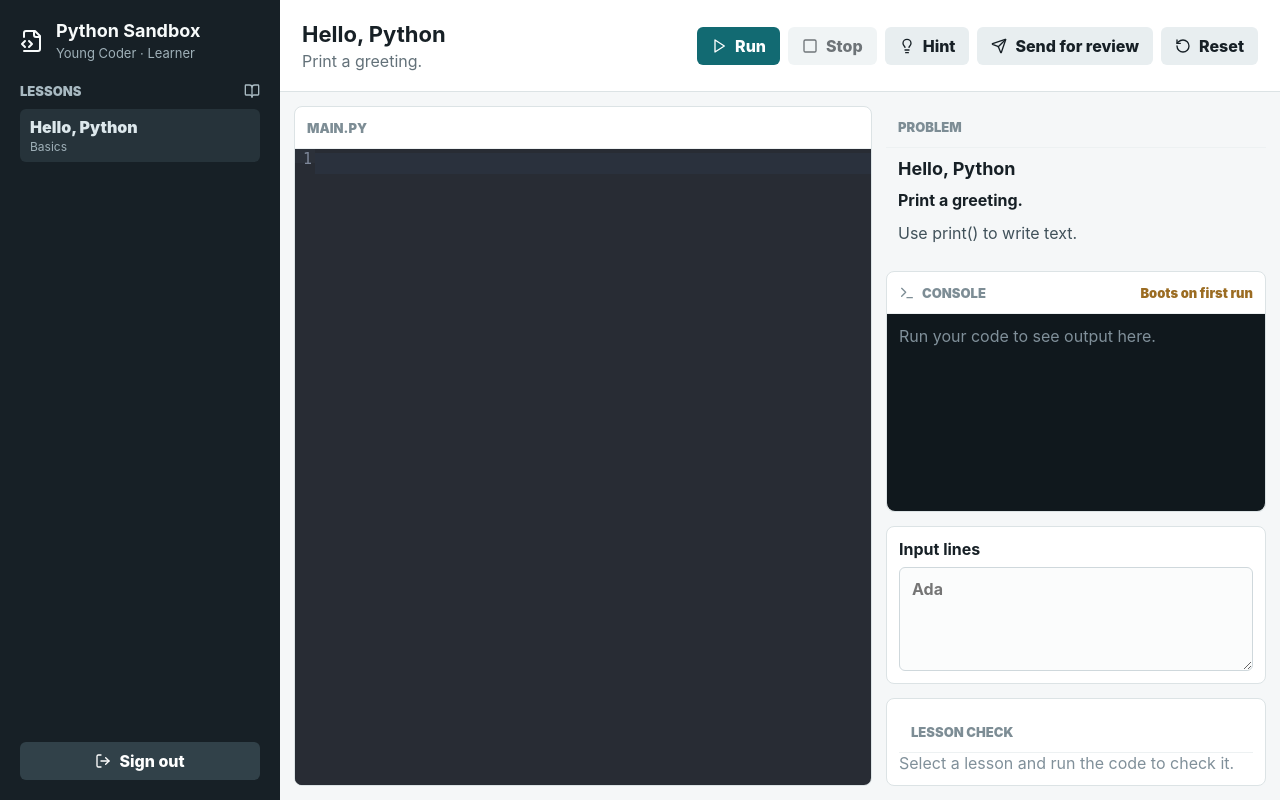
Test: App › prevents duplicate runs while loading and reports worker crashes
Expected: the 1st heading "Hello, Python" is shown, top-left (302, 20), bottom-right (446, 46)
Click the button "Run" at (739, 46), box top-left (697, 26), bottom-right (780, 64)
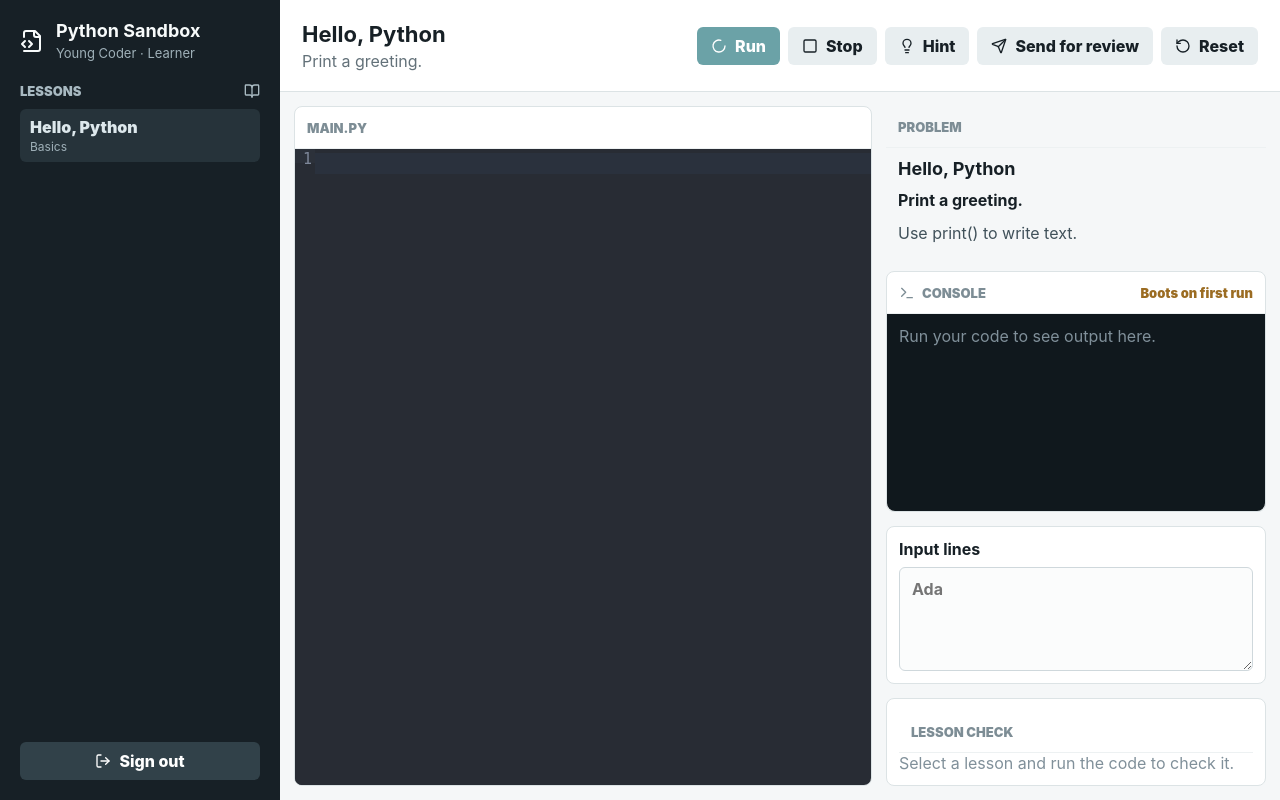
Click the button "Run" at (739, 46), box top-left (697, 26), bottom-right (780, 64)
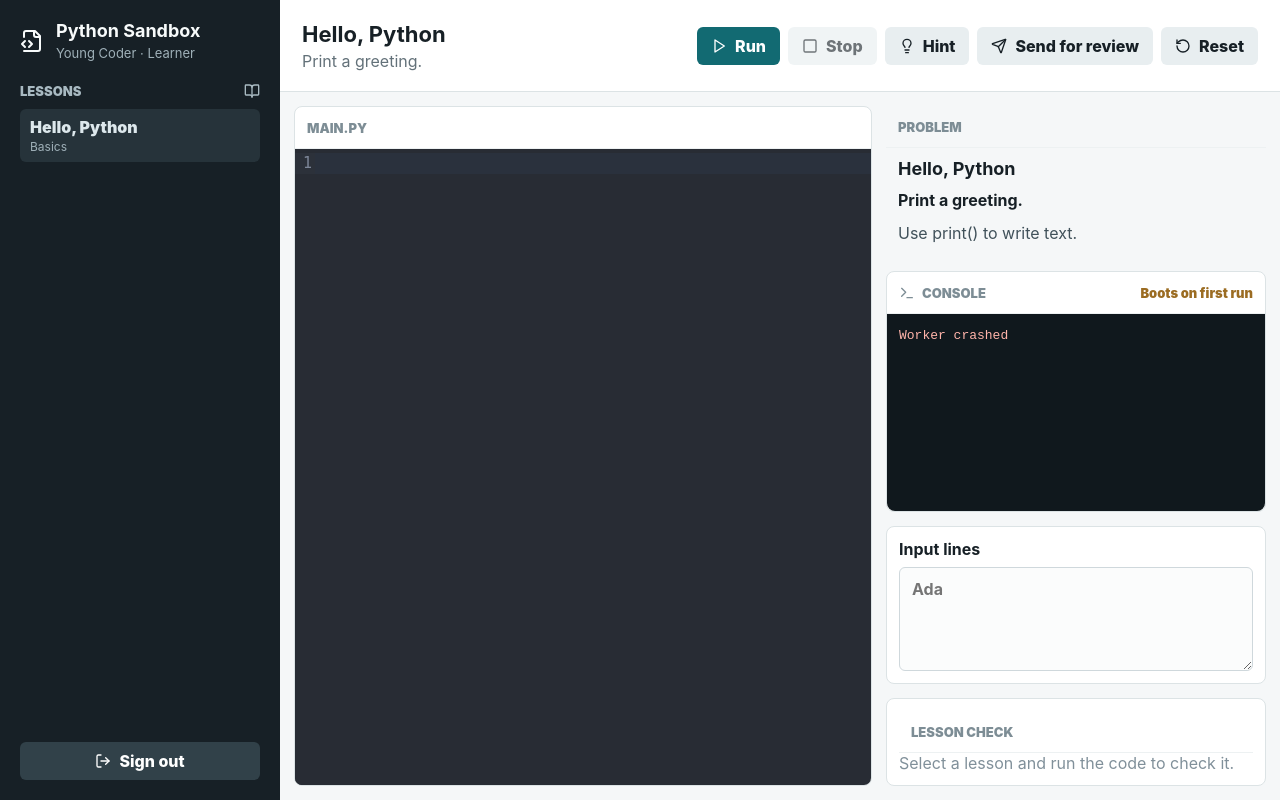
Result: the text "Worker crashed" is shown at top-left (899, 328), bottom-right (1008, 343)
